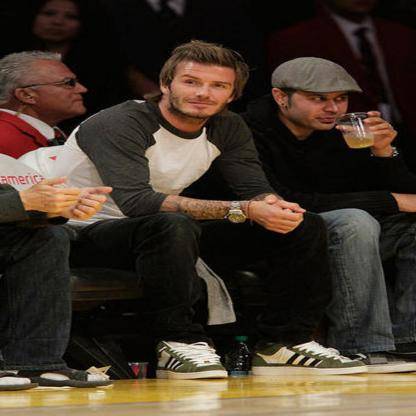face: (171, 60, 239, 118), (289, 78, 350, 132), (37, 55, 91, 115), (36, 5, 87, 37)
